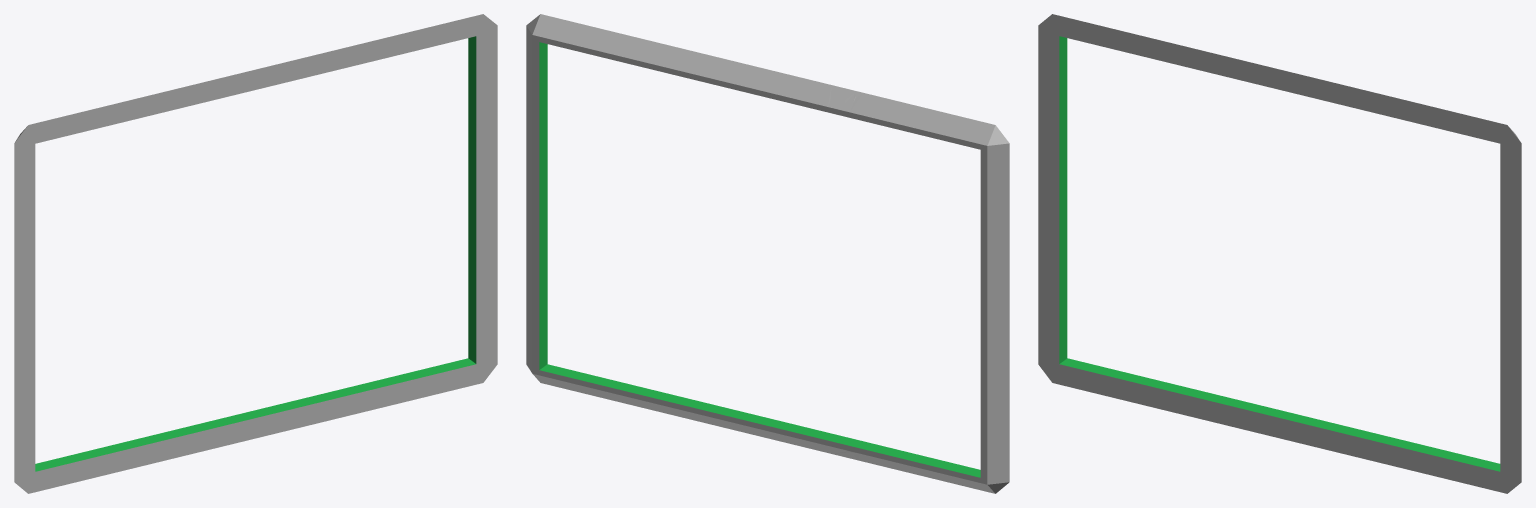
Rendered from cover.obj.
3 views of the same model, side by side, from view 1: azimuth 30°, elevation 25°; view 2: azimuth 150°, elevation 25°; view 3: azimuth 330°, elevation 25° (orthographic).
Visible parts, largest first — view 1: Object.1; view 2: Object.1; view 3: Object.1.
Part boxes in pixels (<box>): Object.1: <box>14,14,497,493</box>; Object.1: <box>526,14,1009,493</box>; Object.1: <box>1038,14,1521,493</box>.
Bounding box in the file's own units: 74.02 × 53.97 × 2.16.
